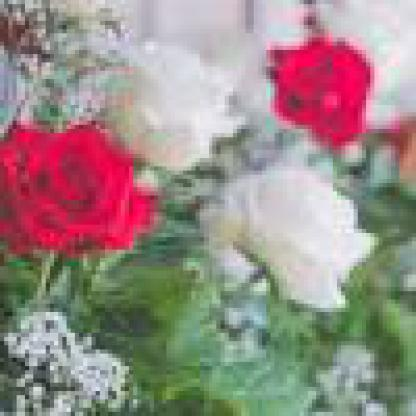Rose-Mawar: (1, 109, 159, 255), (251, 22, 371, 142)
